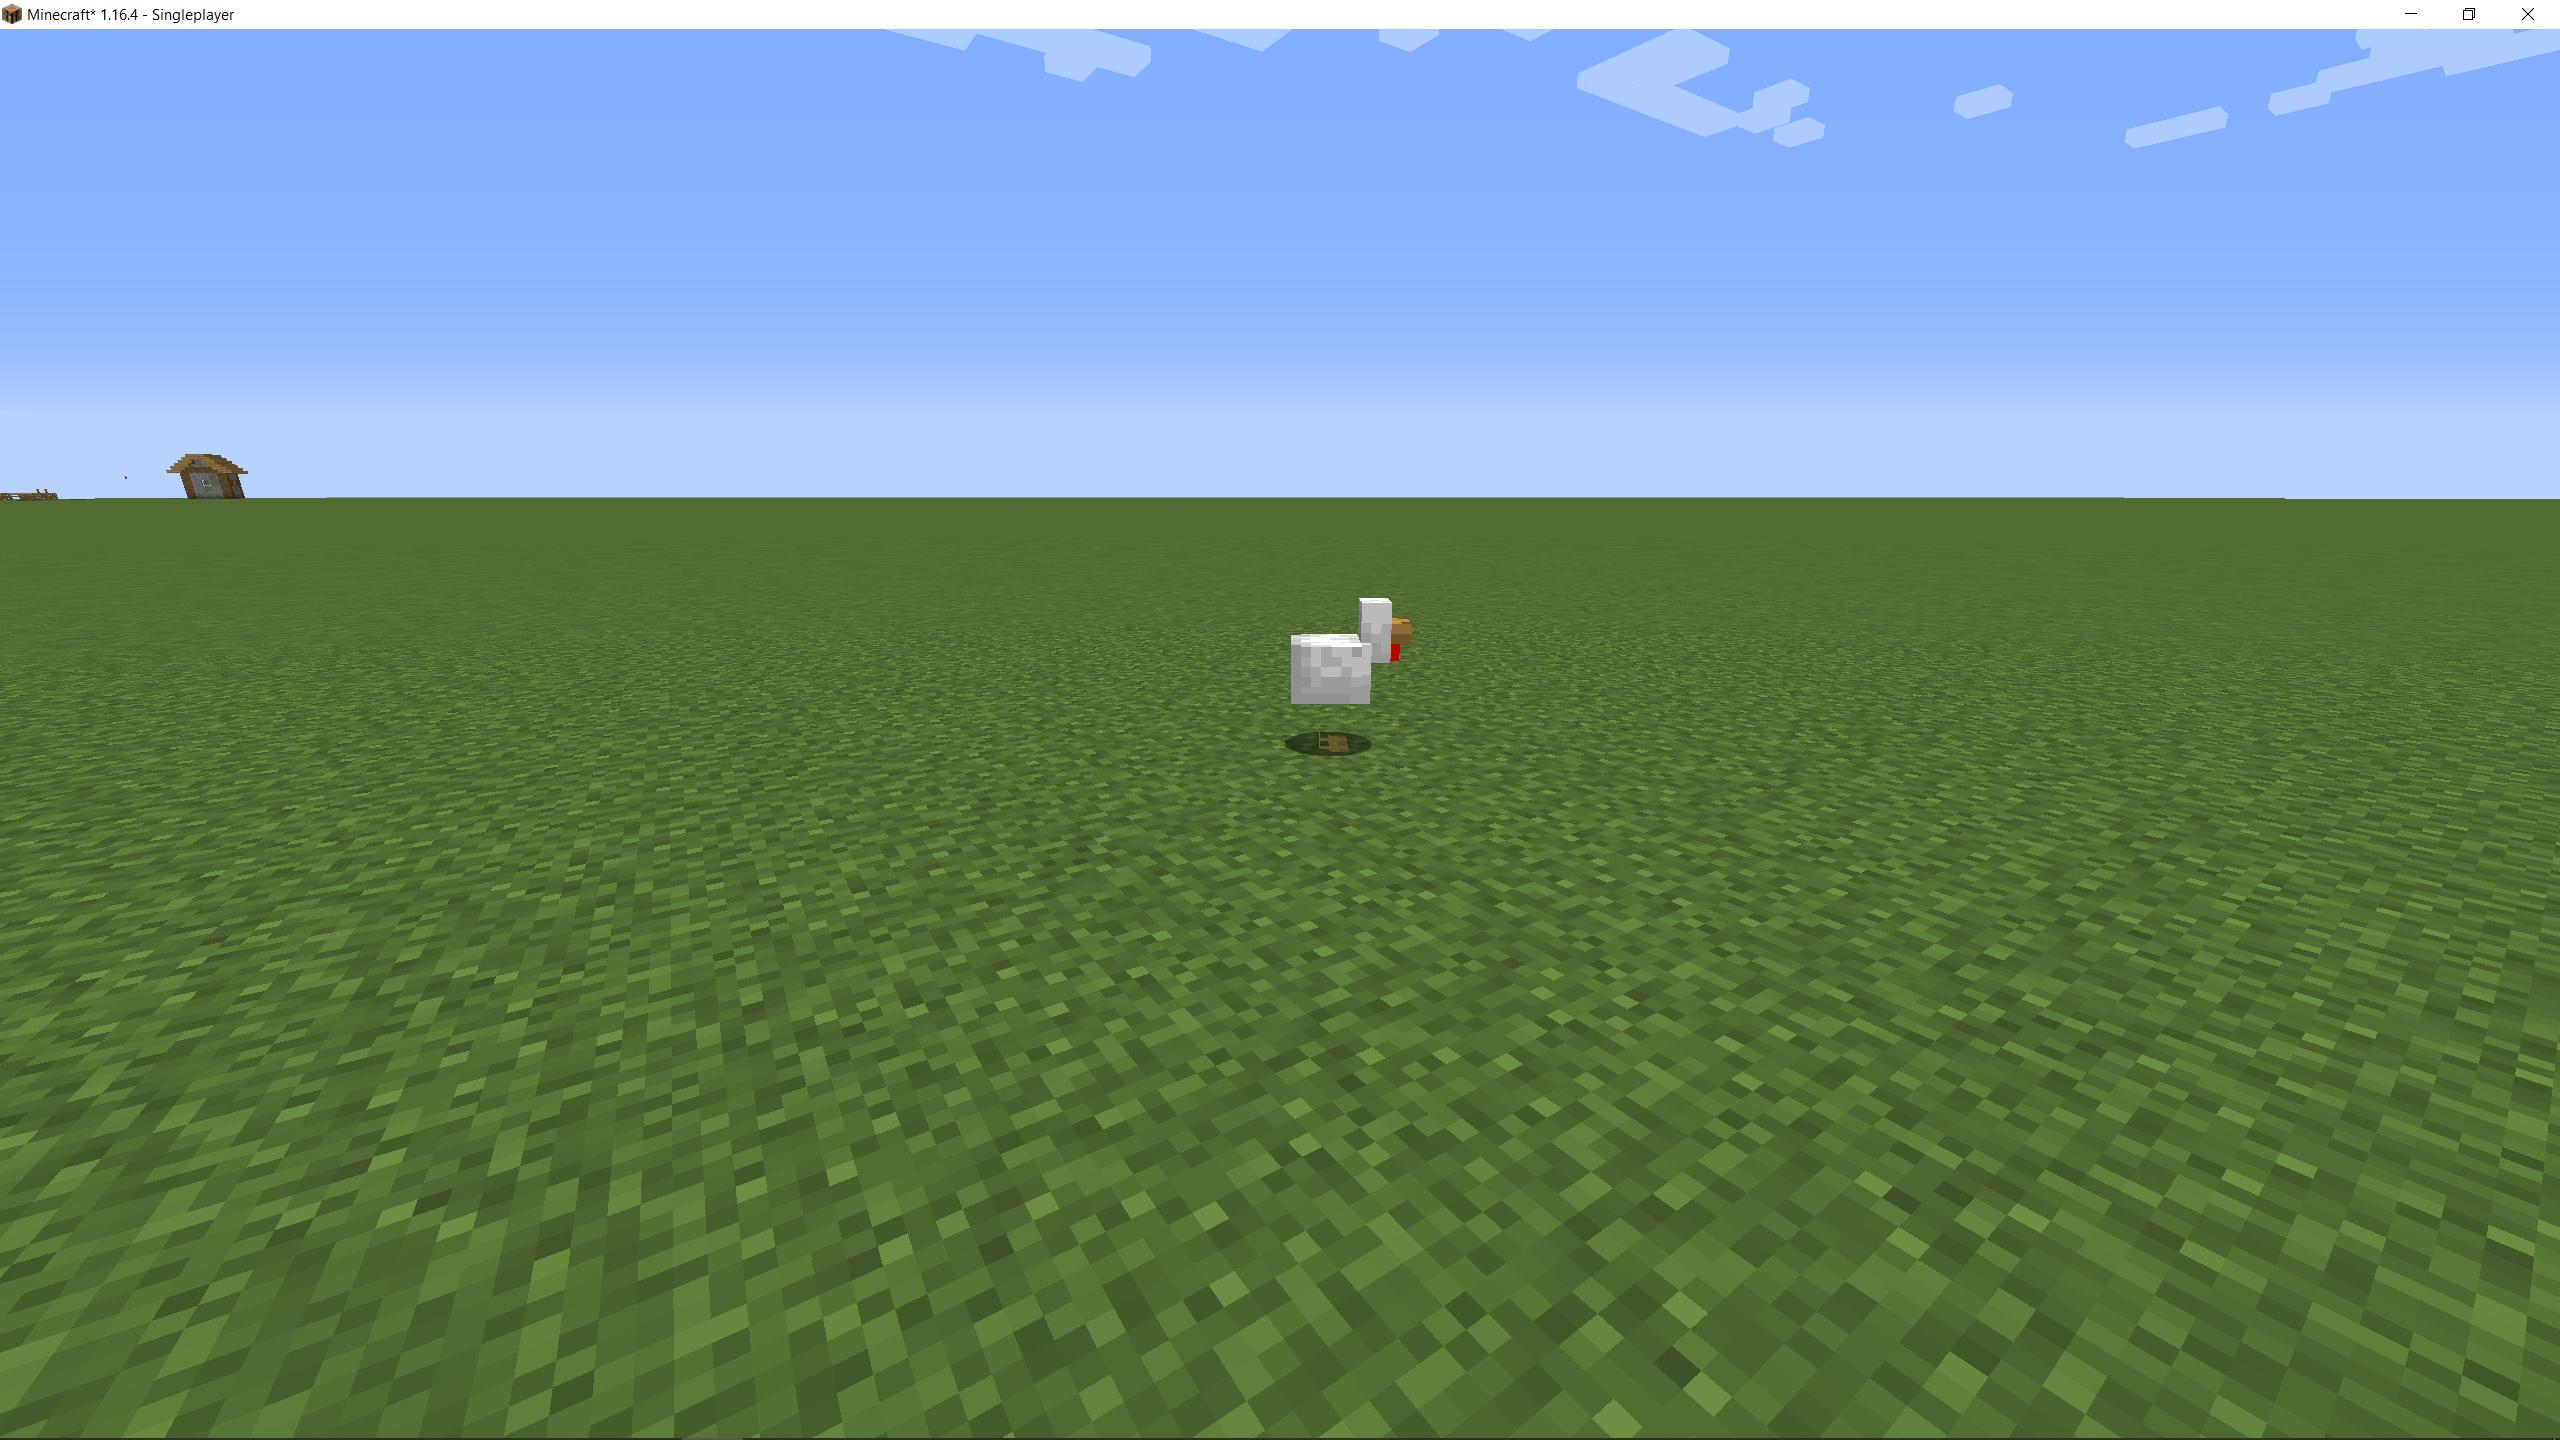chicken: (1285, 591, 1417, 758)
